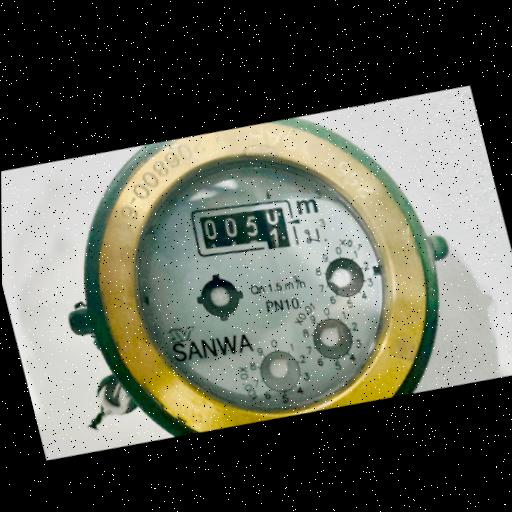0: (257, 204, 292, 251), (197, 213, 227, 252), (217, 210, 246, 249)
5: (237, 208, 268, 248)
border_water_meter_number: (186, 186, 301, 270)
